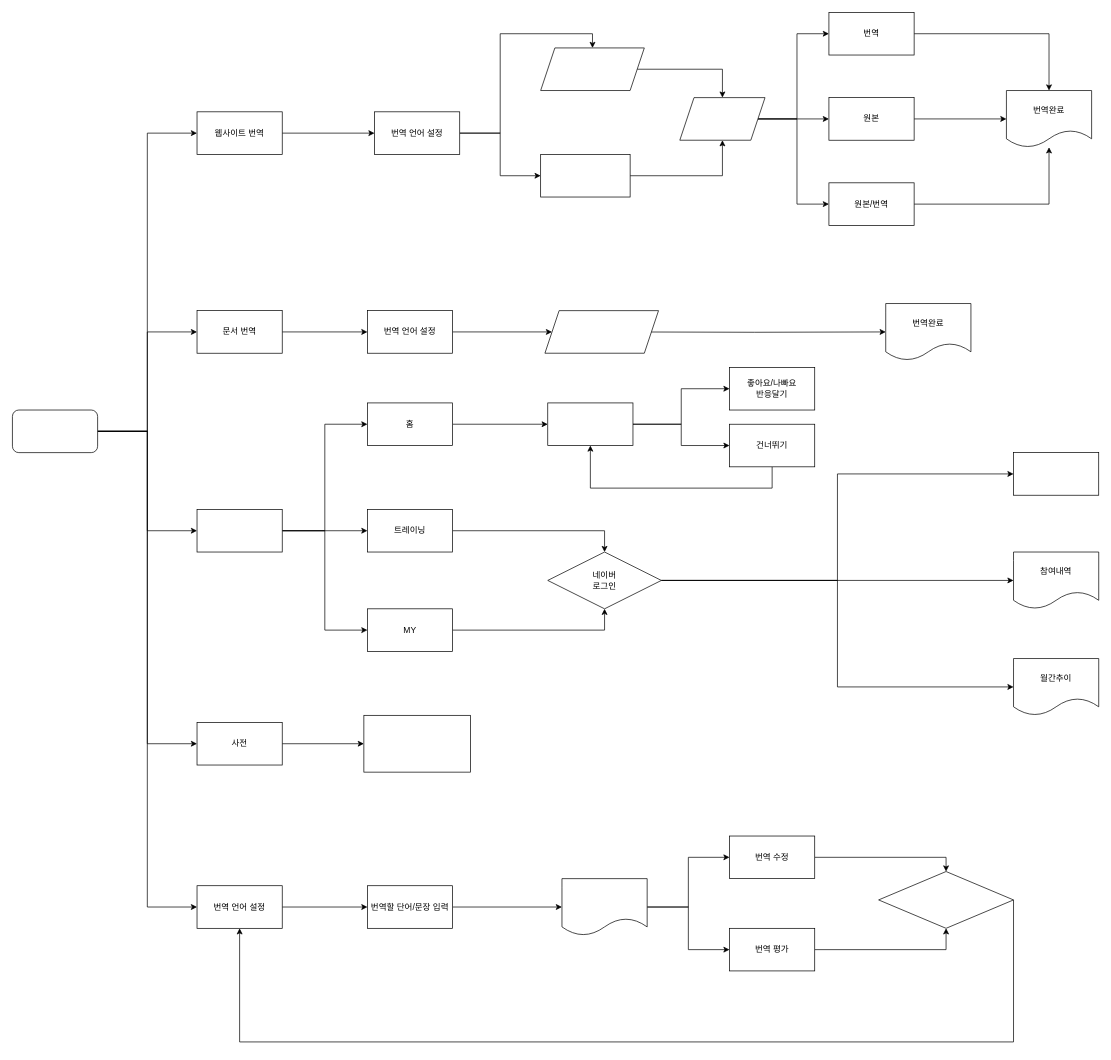
The diagram is 1111 pixels wide and 1060 high, and some of its shapes have lost their labels. Each missing label, with the centre of its shape:
GYM: pixel 239 530
Papago Main: pixel 55 431
검색: pixel 722 118
네이버 사전 웹 사이트로 이동: pixel 416 743
번역된 문장 출력: pixel 604 906
번역할 단어/ 문장 삭제: pixel 946 899
오늘의 문장 보여주기: pixel 590 424
웹 사이트 입력: pixel 592 69
추천 사이트 클릭: pixel 585 175
트레이닝하기: pixel 1056 473
파일 첨부하기: pixel 601 331
